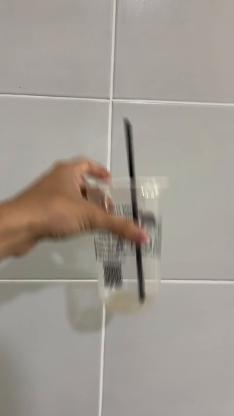Plastic Cup: (82, 172, 170, 310)
